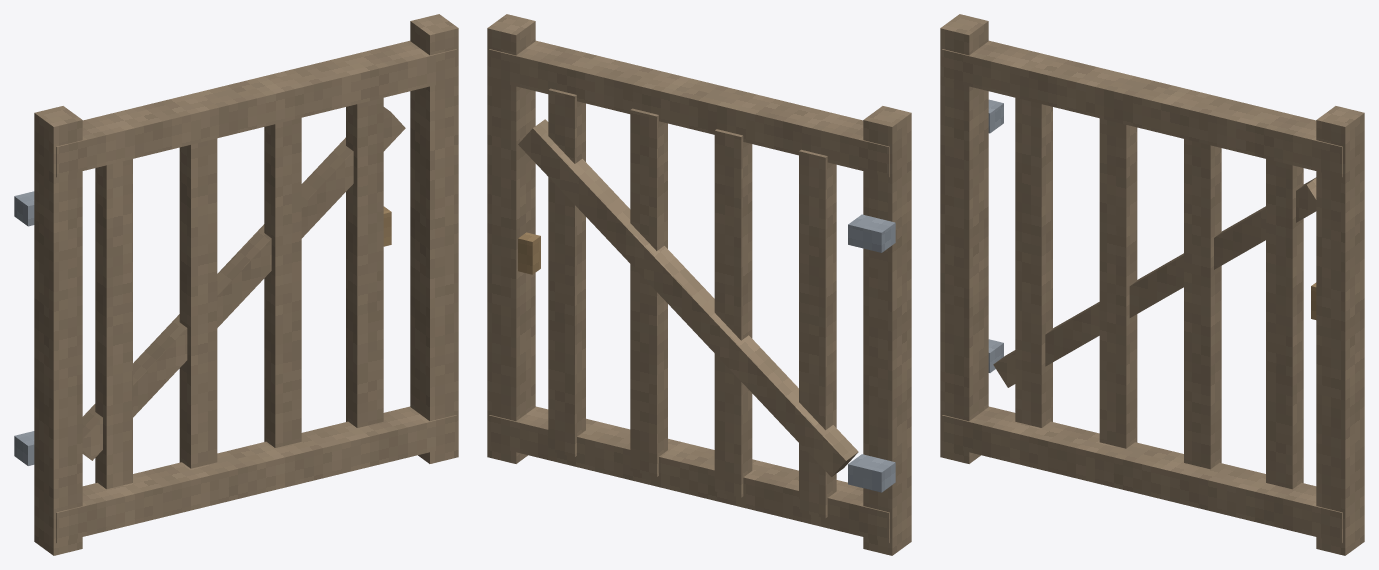
The model's file is level_blockout_domestic_garden_gate.glb.
The picture shows the model from 3 angles, left to right: view 1: azimuth 30°, elevation 25°; view 2: azimuth 150°, elevation 25°; view 3: azimuth 330°, elevation 25°; orthographic projection.
Parts seen in each view (by area): view 1: level_blockout_domestic_garden_gate; view 2: level_blockout_domestic_garden_gate; view 3: level_blockout_domestic_garden_gate.
Boxes of the visible parts, <box> form: level_blockout_domestic_garden_gate: <box>14,14,458,555</box>; level_blockout_domestic_garden_gate: <box>487,14,911,555</box>; level_blockout_domestic_garden_gate: <box>940,14,1364,555</box>.
Bounding box in the file's own units: 1.7 × 1.7 × 0.255.
3 materials, 3 textured.
